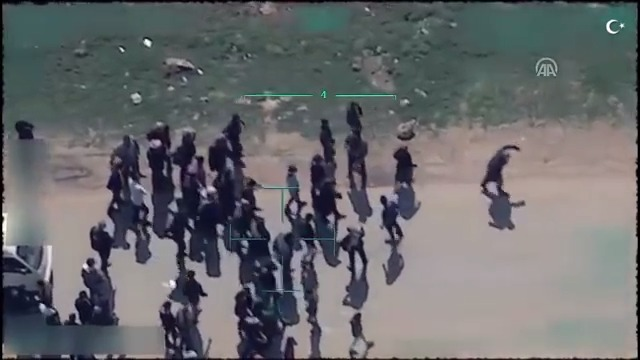insan: (480, 138, 525, 202), (340, 305, 380, 358), (336, 221, 371, 276), (277, 157, 307, 220), (225, 107, 255, 166), (376, 190, 408, 244), (88, 214, 116, 275), (126, 168, 154, 227), (346, 124, 370, 190), (391, 137, 420, 188), (315, 114, 342, 167), (182, 270, 211, 319)
